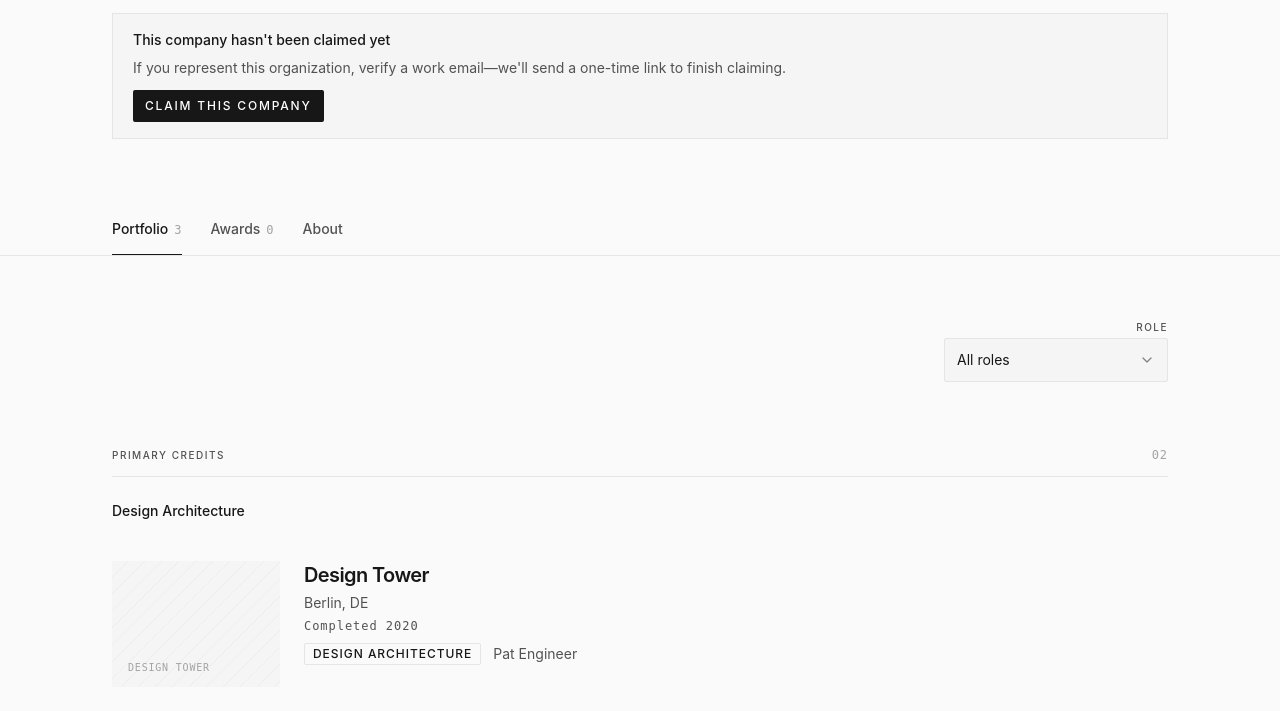
Test: CompanyDetails (QA 4.1 unclaimed) › role filter hides non-matching credits and All restores them
The width and height of the screenshot is (1280, 711).
(page scrolled)
Check: the link "Design Tower" is shown, box [304,563,429,587]
What coordinates should you click on to do the following:
click the dropdown named "filter credits by role"
I would click on:
 (1056, 360)
Its box is [944,338,1168,382].
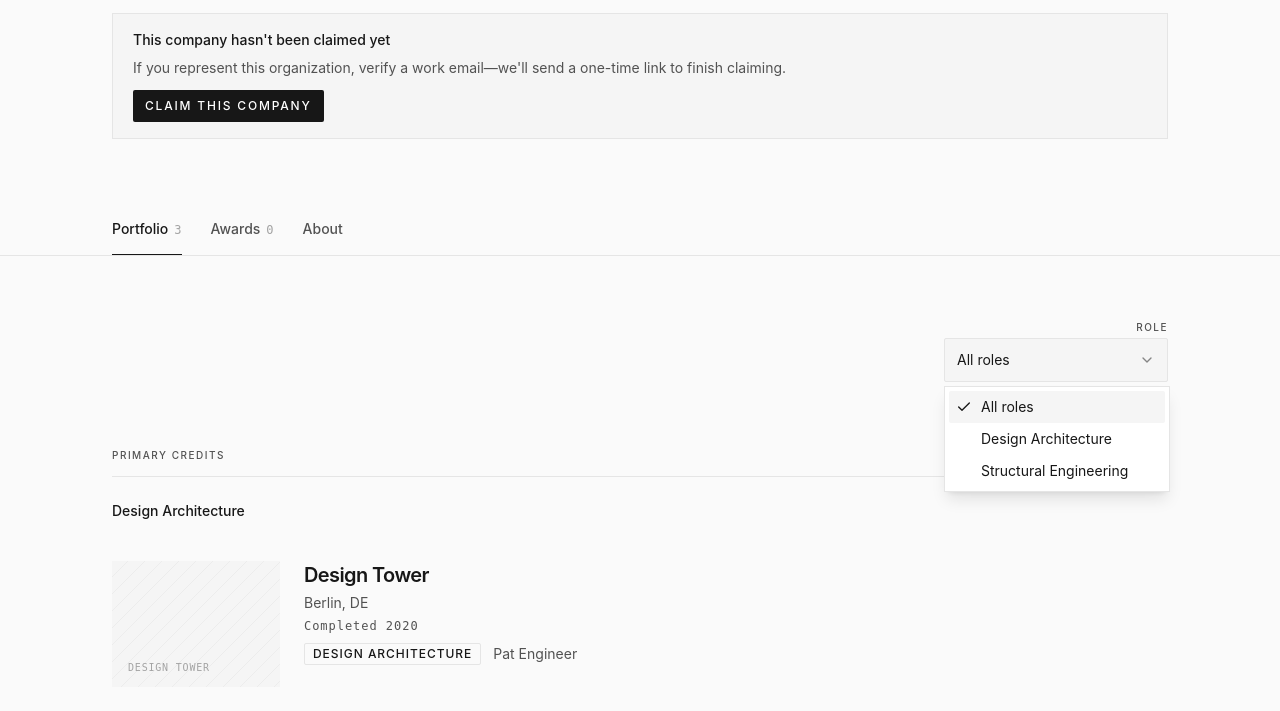
What coordinates should you click on to do the following:
click the option "Structural Engineering"
I would click on:
 (1055, 470)
Its box is [981,462,1128,479].
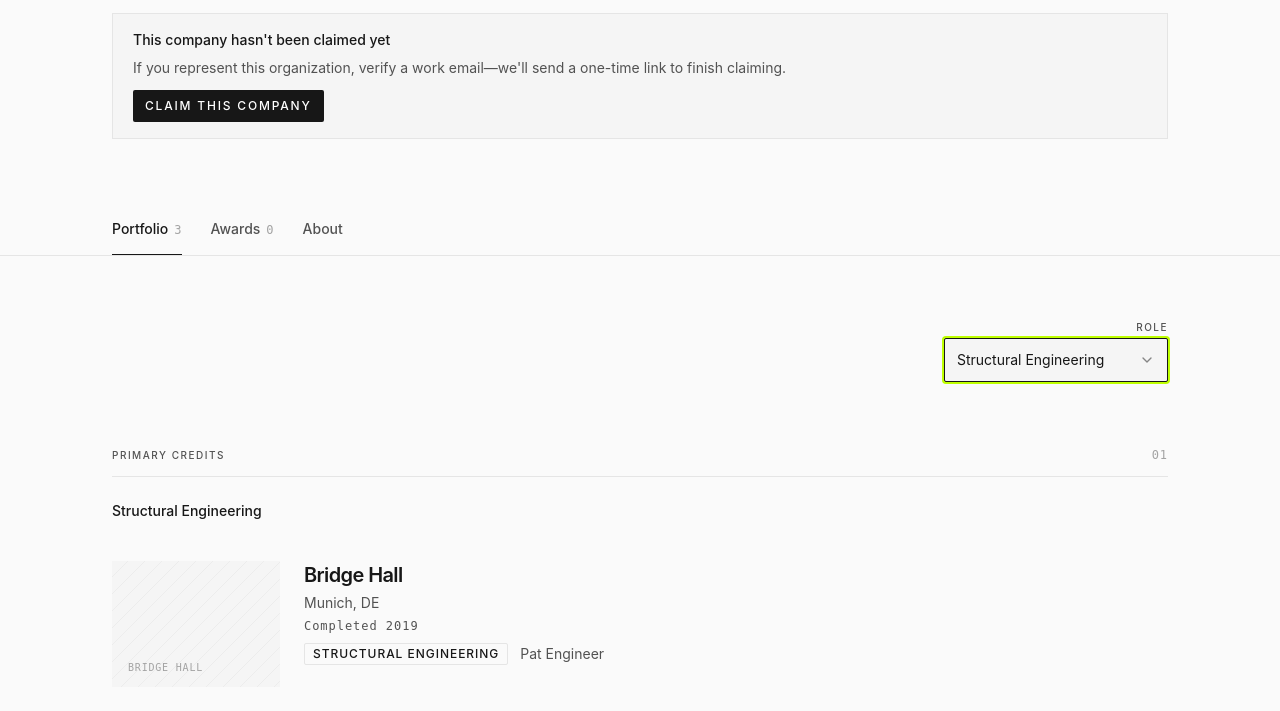
Check: the link "Bridge Hall" is shown, box [304,563,403,587]
Check: the link "Design Tower" is gone
What coordinates should you click on to do the following:
click the dropdown named "filter credits by role"
I would click on:
 (1056, 360)
Its box is [944,338,1168,382].
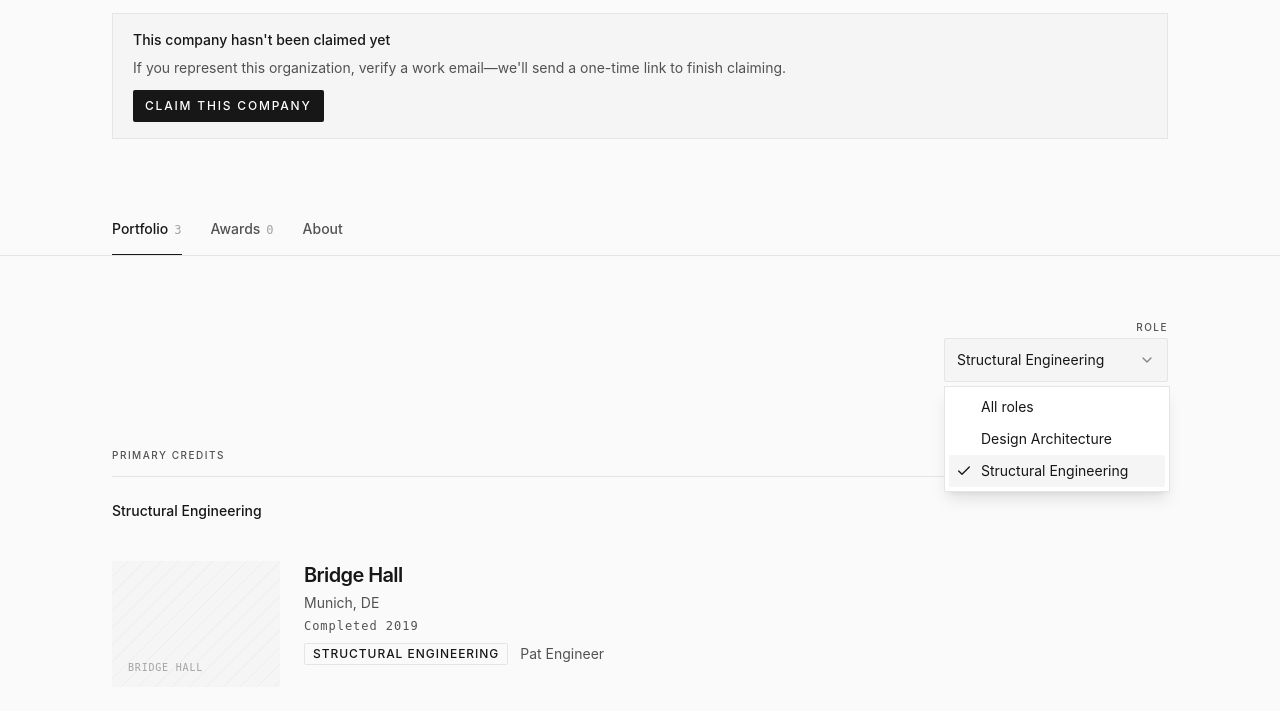
What coordinates should you click on to do the following:
click the option "All roles"
I would click on:
 (1007, 406)
Its box is [981,398,1034,415].
(page scrolled)
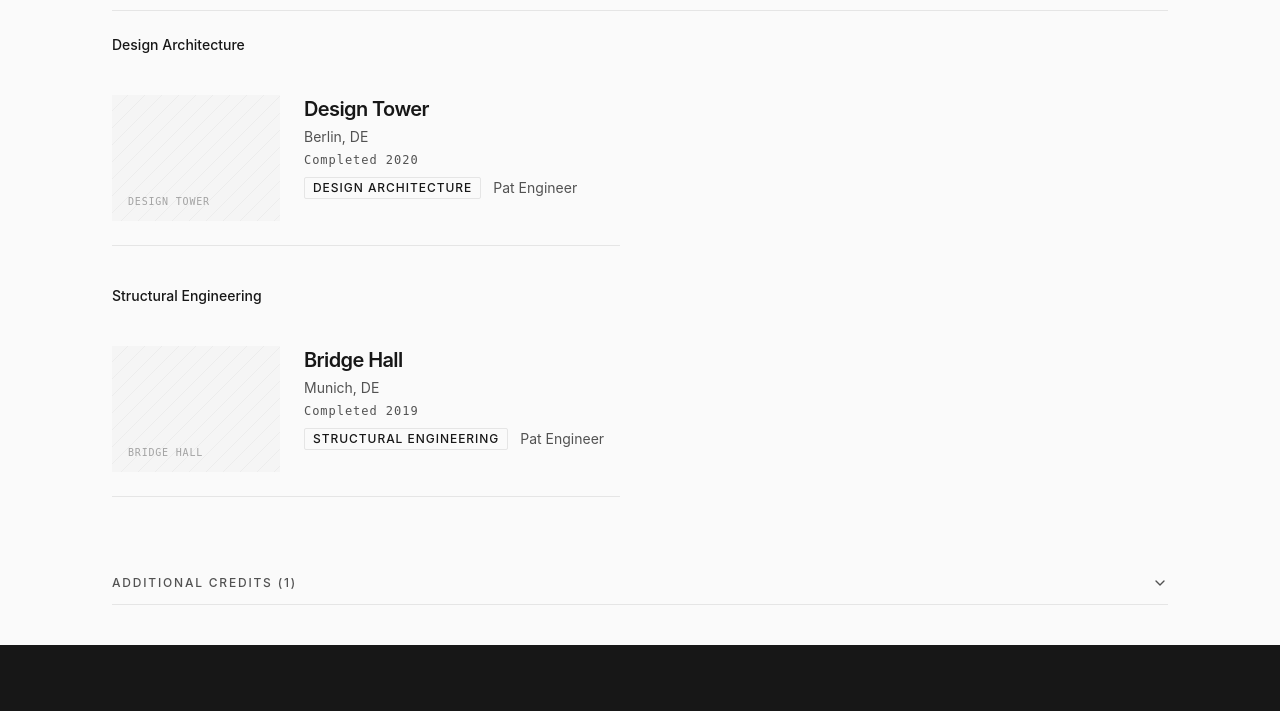
Check: the link "Bridge Hall" is shown, box [304,348,403,372]
Check: the link "Design Tower" is shown, box [304,97,429,121]
